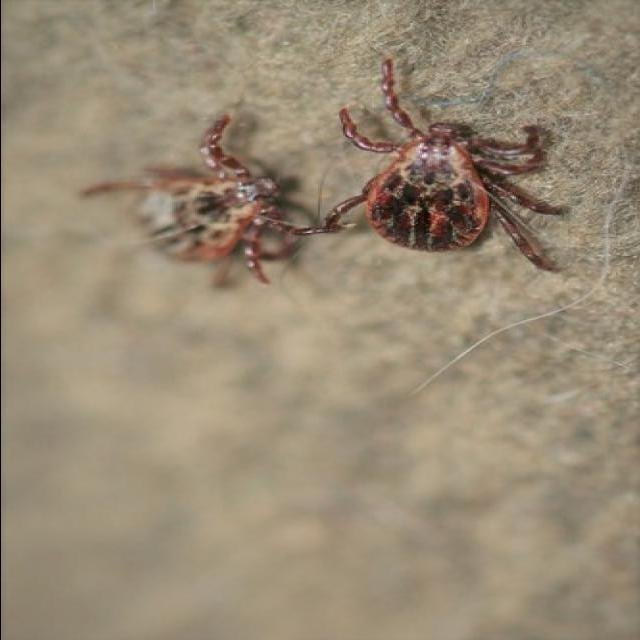Dermacentor Reticulatus-M: (325, 58, 571, 273), (83, 115, 329, 288)
